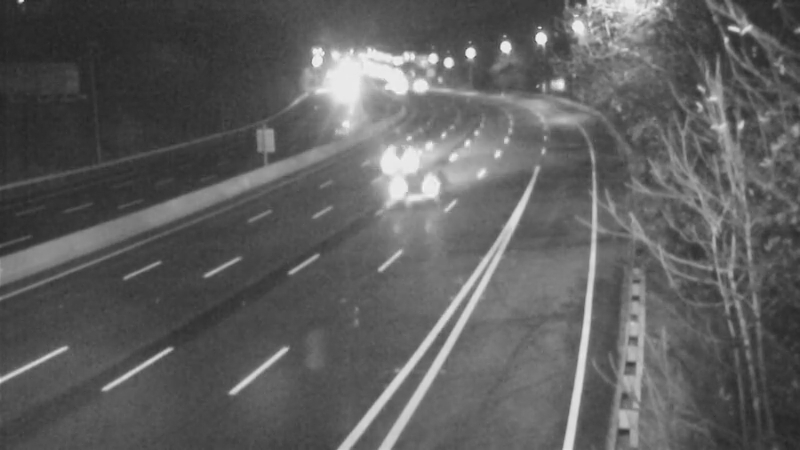vehicle: (363, 115, 443, 195), (377, 155, 457, 235), (390, 57, 440, 107)
